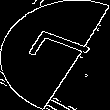L_SE: (16, 30, 94, 80)
